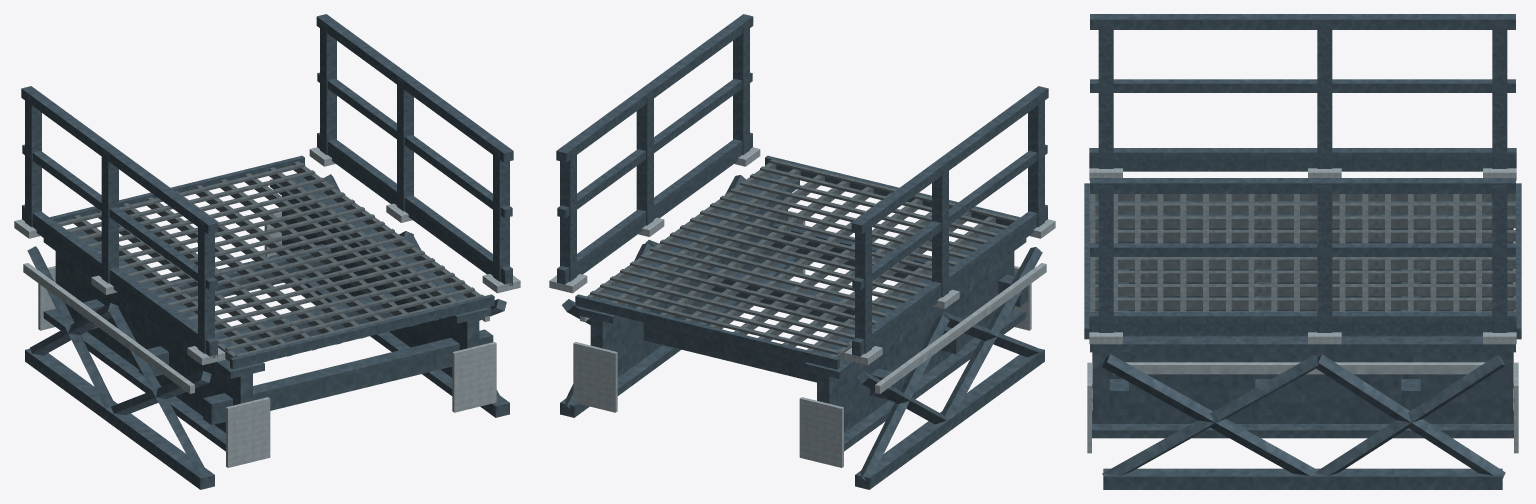
File: PZ_Caldera_Span_03m_Clean.glb
3 renders of one model, left to right at view 1: azimuth 30°, elevation 25°; view 2: azimuth 150°, elevation 25°; view 3: azimuth 270°, elevation 25°, orthographic. The views are drawn at different scales.
Parts seen in each view (by area): view 1: PZ_Caldera_Span_03m_Clean_WALKWAY_TRANSVERSE_SERRATED_CROSSB, PZ_Caldera_Span_03m_Clean_WALKWAY_LONGITUDINAL_BEARER_BARS, PZ_Caldera_Span_03m_Clean_TRANSVERSE_BRIDGE_CROSSBEAMS, PZ_Caldera_Span_03m_Clean_END_BOLTED_SPLICE_PLATES, PZ_Caldera_Span_03m_Clean_LEFT_LONGITUDINAL_I_BEAM_WEB, PZ_Caldera_Span_03m_Clean_LEFT_UPRIGHT_POSTS, PZ_Caldera_Span_03m_Clean_RIGHT_UPRIGHT_POSTS, PZ_Caldera_Span_03m_Clean_LEFT_SIDE_TRUSS_X_BRACES, PZ_Caldera_Span_03m_Clean_LEFT_LOWER_CHORD, PZ_Caldera_Span_03m_Clean_LEFT_TOE_KICK_PLATE, PZ_Caldera_Span_03m_Clean_RIGHT_TOE_KICK_PLATE, PZ_Caldera_Span_03m_Clean_LEFT_TOP_HANDRAIL (+14 smaller); view 2: PZ_Caldera_Span_03m_Clean_WALKWAY_TRANSVERSE_SERRATED_CROSSB, PZ_Caldera_Span_03m_Clean_WALKWAY_LONGITUDINAL_BEARER_BARS, PZ_Caldera_Span_03m_Clean_LEFT_LONGITUDINAL_I_BEAM_WEB, PZ_Caldera_Span_03m_Clean_TRANSVERSE_BRIDGE_CROSSBEAMS, PZ_Caldera_Span_03m_Clean_LEFT_SIDE_TRUSS_X_BRACES, PZ_Caldera_Span_03m_Clean_END_BOLTED_SPLICE_PLATES, PZ_Caldera_Span_03m_Clean_RIGHT_UPRIGHT_POSTS, PZ_Caldera_Span_03m_Clean_LEFT_UPRIGHT_POSTS, PZ_Caldera_Span_03m_Clean_LEFT_TOE_KICK_PLATE, PZ_Caldera_Span_03m_Clean_LEFT_LOWER_CHORD, PZ_Caldera_Span_03m_Clean_RIGHT_TOE_KICK_PLATE, PZ_Caldera_Span_03m_Clean_RIGHT_LONGITUDINAL_I_BEAM_WEB (+14 smaller); view 3: PZ_Caldera_Span_03m_Clean_WALKWAY_LONGITUDINAL_BEARER_BARS, PZ_Caldera_Span_03m_Clean_RIGHT_LONGITUDINAL_I_BEAM_WEB, PZ_Caldera_Span_03m_Clean_RIGHT_SIDE_TRUSS_X_BRACES, PZ_Caldera_Span_03m_Clean_WALKWAY_TRANSVERSE_SERRATED_CROSSB, PZ_Caldera_Span_03m_Clean_LEFT_TOE_KICK_PLATE, PZ_Caldera_Span_03m_Clean_RIGHT_TOE_KICK_PLATE, PZ_Caldera_Span_03m_Clean_RIGHT_LOWER_CHORD, PZ_Caldera_Span_03m_Clean_LEFT_UPRIGHT_POSTS, PZ_Caldera_Span_03m_Clean_RIGHT_UPRIGHT_POSTS, PZ_Caldera_Span_03m_Clean_LEFT_TOP_HANDRAIL, PZ_Caldera_Span_03m_Clean_RIGHT_TOP_HANDRAIL, PZ_Caldera_Span_03m_Clean_RIGHT_I_BEAM_TOP_FLANGE (+13 smaller).
Boxes of the visible parts, x1,y1,x2,y2 form: PZ_Caldera_Span_03m_Clean_WALKWAY_TRANSVERSE_SERRATED_CROSSB: [57, 163, 483, 356]; PZ_Caldera_Span_03m_Clean_WALKWAY_LONGITUDINAL_BEARER_BARS: [55, 161, 487, 368]; PZ_Caldera_Span_03m_Clean_TRANSVERSE_BRIDGE_CROSSBEAMS: [75, 244, 493, 425]; PZ_Caldera_Span_03m_Clean_END_BOLTED_SPLICE_PLATES: [38, 212, 496, 467]; PZ_Caldera_Span_03m_Clean_LEFT_LONGITUDINAL_I_BEAM_WEB: [55, 251, 252, 432]; PZ_Caldera_Span_03m_Clean_LEFT_UPRIGHT_POSTS: [25, 93, 214, 353]; PZ_Caldera_Span_03m_Clean_RIGHT_UPRIGHT_POSTS: [320, 21, 509, 281]; PZ_Caldera_Span_03m_Clean_LEFT_SIDE_TRUSS_X_BRACES: [27, 246, 211, 477]; PZ_Caldera_Span_03m_Clean_LEFT_LOWER_CHORD: [25, 348, 214, 489]; PZ_Caldera_Span_03m_Clean_LEFT_TOE_KICK_PLATE: [22, 204, 217, 358]; PZ_Caldera_Span_03m_Clean_RIGHT_TOE_KICK_PLATE: [317, 132, 512, 285]; PZ_Caldera_Span_03m_Clean_LEFT_TOP_HANDRAIL: [21, 86, 218, 234]; PZ_Caldera_Span_03m_Clean_WALKWAY_TRANSVERSE_SERRATED_CROSSB: [590, 159, 1017, 354]; PZ_Caldera_Span_03m_Clean_WALKWAY_LONGITUDINAL_BEARER_BARS: [582, 162, 1013, 368]; PZ_Caldera_Span_03m_Clean_LEFT_LONGITUDINAL_I_BEAM_WEB: [817, 251, 1014, 432]; PZ_Caldera_Span_03m_Clean_TRANSVERSE_BRIDGE_CROSSBEAMS: [643, 223, 1028, 400]; PZ_Caldera_Span_03m_Clean_LEFT_SIDE_TRUSS_X_BRACES: [857, 247, 1042, 480]; PZ_Caldera_Span_03m_Clean_END_BOLTED_SPLICE_PLATES: [573, 210, 1031, 467]; PZ_Caldera_Span_03m_Clean_RIGHT_UPRIGHT_POSTS: [560, 21, 749, 281]; PZ_Caldera_Span_03m_Clean_LEFT_UPRIGHT_POSTS: [855, 93, 1044, 353]; PZ_Caldera_Span_03m_Clean_LEFT_TOE_KICK_PLATE: [852, 204, 1047, 358]; PZ_Caldera_Span_03m_Clean_LEFT_LOWER_CHORD: [855, 348, 1044, 489]; PZ_Caldera_Span_03m_Clean_RIGHT_TOE_KICK_PLATE: [557, 132, 752, 284]; PZ_Caldera_Span_03m_Clean_RIGHT_LONGITUDINAL_I_BEAM_WEB: [590, 196, 787, 377]; PZ_Caldera_Span_03m_Clean_WALKWAY_LONGITUDINAL_BEARER_BARS: [1095, 194, 1515, 336]; PZ_Caldera_Span_03m_Clean_RIGHT_LONGITUDINAL_I_BEAM_WEB: [1092, 352, 1513, 423]; PZ_Caldera_Span_03m_Clean_RIGHT_SIDE_TRUSS_X_BRACES: [1102, 354, 1505, 478]; PZ_Caldera_Span_03m_Clean_WALKWAY_TRANSVERSE_SERRATED_CROSSB: [1089, 187, 1481, 311]; PZ_Caldera_Span_03m_Clean_LEFT_TOE_KICK_PLATE: [1089, 148, 1516, 171]; PZ_Caldera_Span_03m_Clean_RIGHT_TOE_KICK_PLATE: [1089, 312, 1516, 335]; PZ_Caldera_Span_03m_Clean_RIGHT_LOWER_CHORD: [1103, 468, 1502, 489]; PZ_Caldera_Span_03m_Clean_LEFT_UPRIGHT_POSTS: [1098, 22, 1507, 168]; PZ_Caldera_Span_03m_Clean_RIGHT_UPRIGHT_POSTS: [1098, 186, 1507, 332]; PZ_Caldera_Span_03m_Clean_LEFT_TOP_HANDRAIL: [1090, 14, 1515, 29]; PZ_Caldera_Span_03m_Clean_RIGHT_TOP_HANDRAIL: [1090, 178, 1515, 193]; PZ_Caldera_Span_03m_Clean_RIGHT_I_BEAM_TOP_FLANGE: [1090, 336, 1515, 352].
Bounding box in the file's own units: 2.88 × 2.31 × 3.
3 materials, 3 textured.
